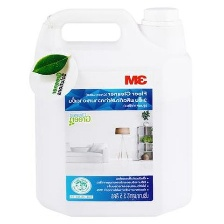cleaning_solution: (27, 3, 197, 221)
